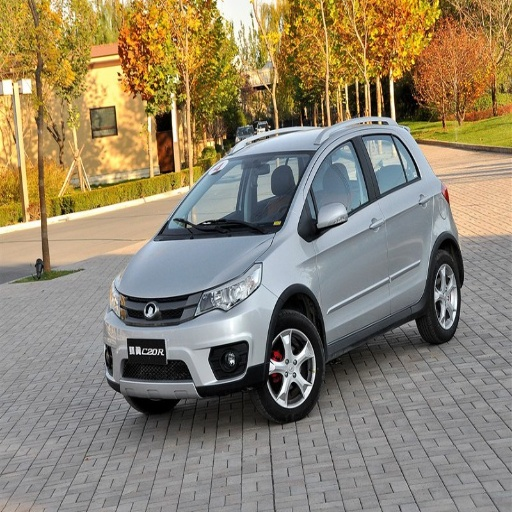front_bumper: (103, 289, 276, 398)
front_glass: (156, 150, 312, 239)
front_left_door: (302, 131, 389, 338)
